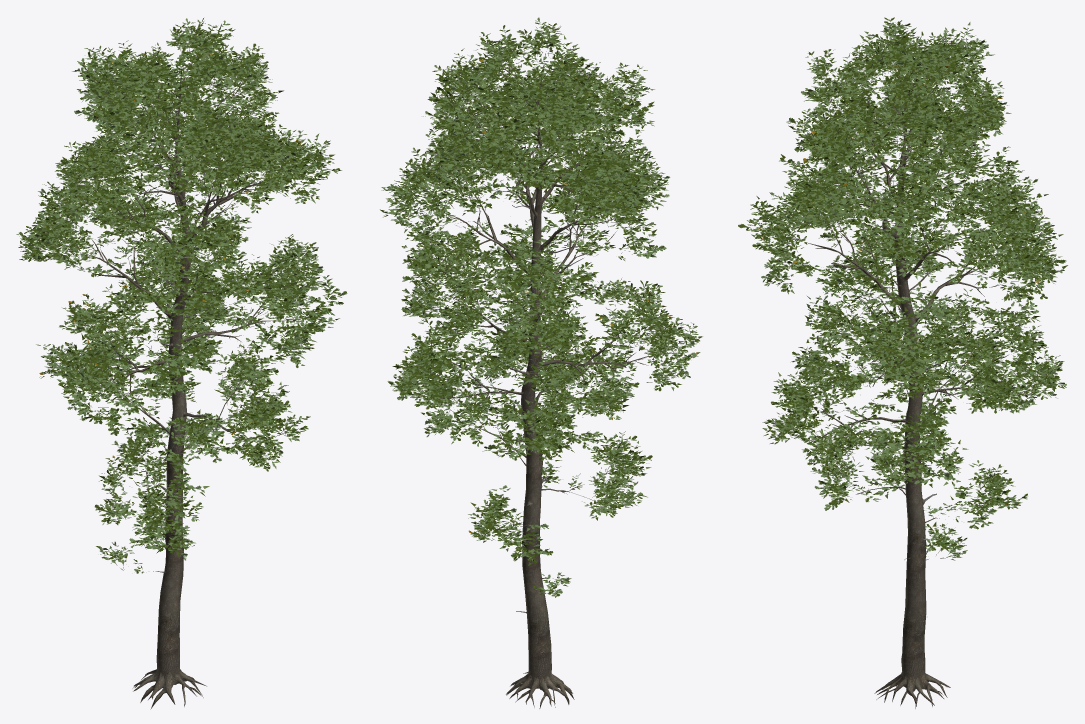
File: quercus-robur-forest-ld-s89.glb
3 views of the same model, side by side, from view 1: azimuth 30°, elevation 25°; view 2: azimuth 150°, elevation 25°; view 3: azimuth 270°, elevation 25° (orthographic). The views are drawn at different scales.
Visible parts, largest first — view 1: ForestPlantCatalog_quercus-robur-forest-ld-s89; view 2: ForestPlantCatalog_quercus-robur-forest-ld-s89; view 3: ForestPlantCatalog_quercus-robur-forest-ld-s89.
Part boxes in pixels (left/top/right/bottom): ForestPlantCatalog_quercus-robur-forest-ld-s89: left=16, top=18, right=347, bottom=709; ForestPlantCatalog_quercus-robur-forest-ld-s89: left=380, top=17, right=702, bottom=708; ForestPlantCatalog_quercus-robur-forest-ld-s89: left=738, top=17, right=1067, bottom=708.
Size of the model in its own units: 6.49 by 14.5 by 6.47.
14 materials, 14 textured.
